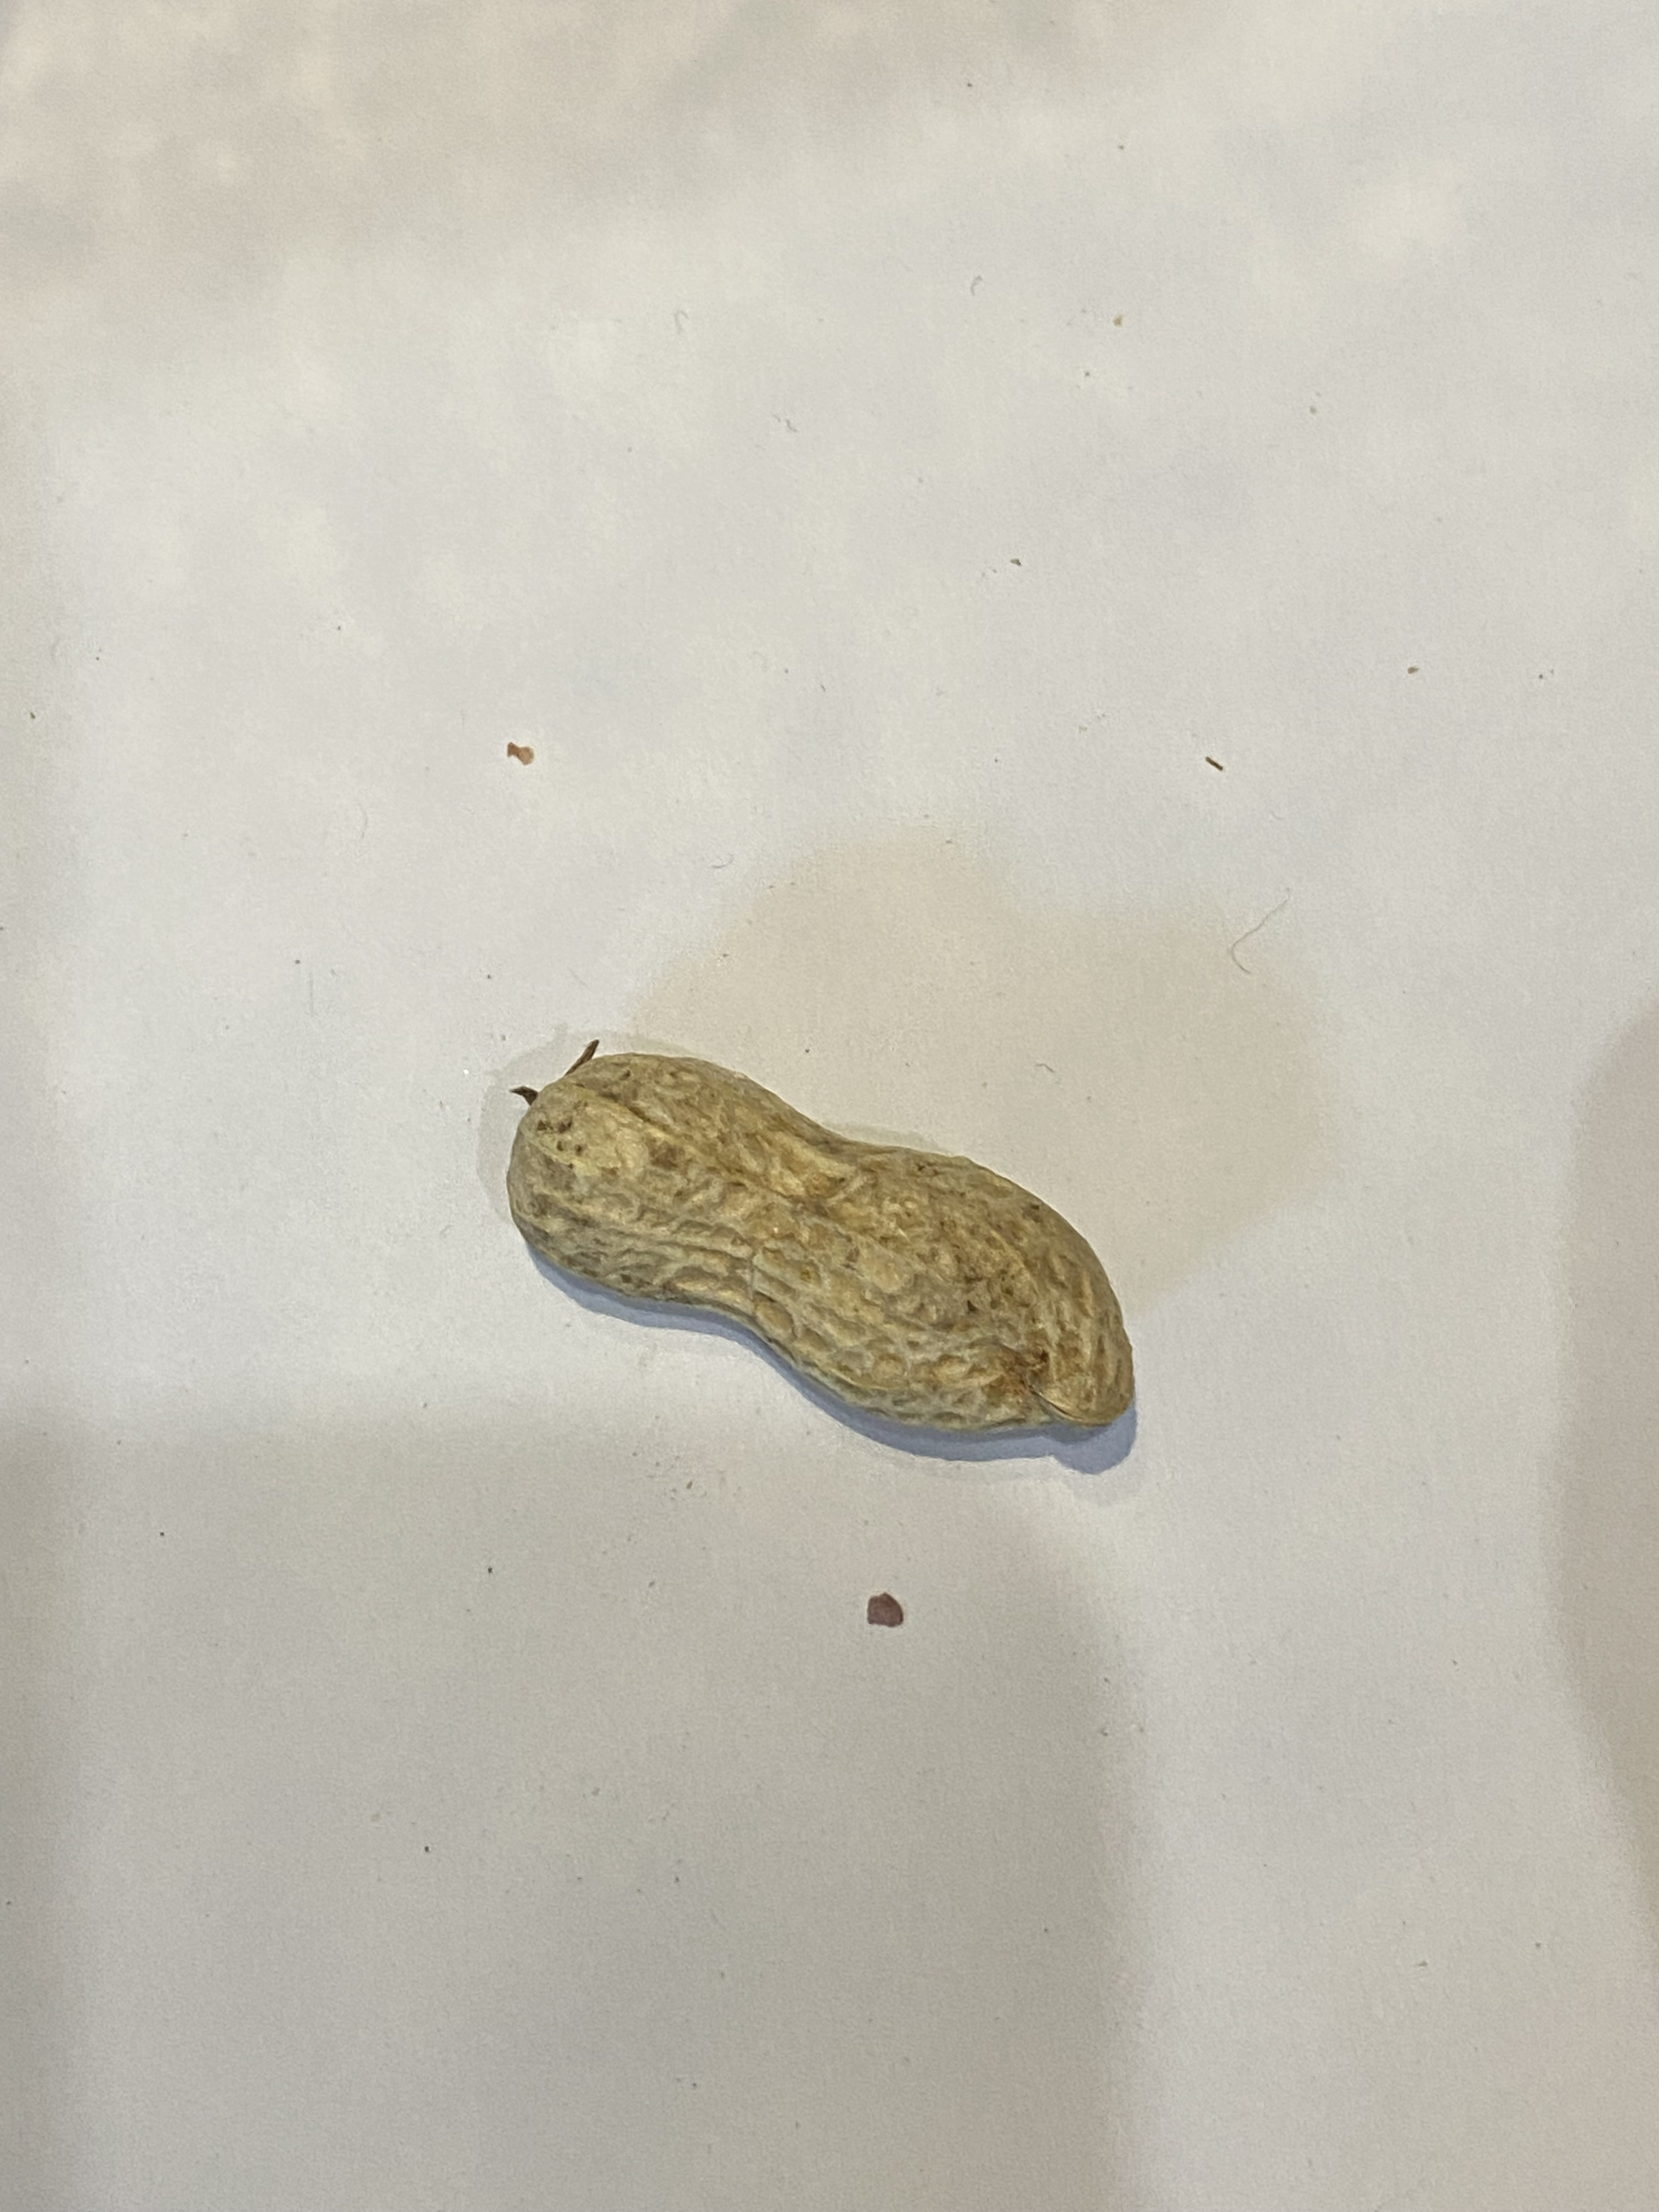kacang2: (484, 1038, 1175, 1456)
